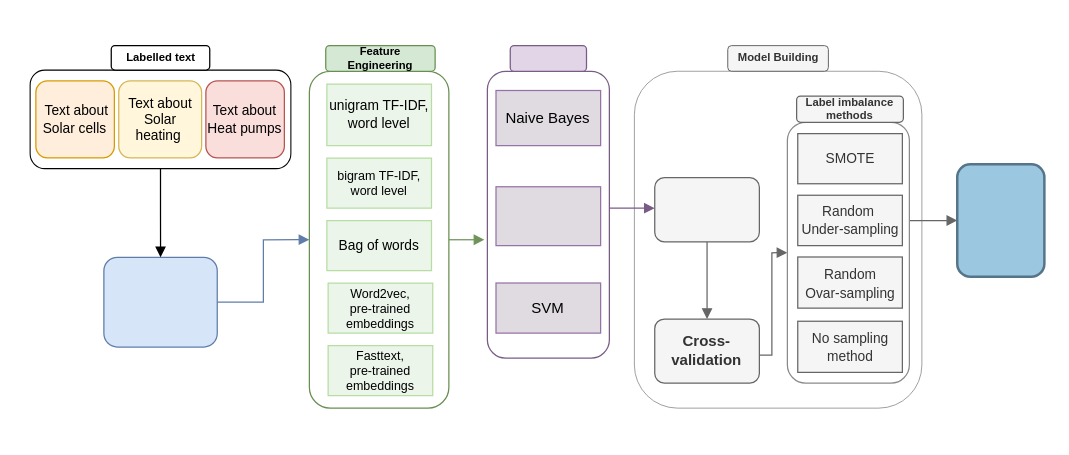
The diagram is 1069 pixels wide and 455 high, and some of its shapes have lost their labels. The shapes that lost their labels are listed below. From the top down, each one's box as (x1, y1, x2, y2) in pixels, then its label:
(509, 44, 586, 71): Classifiers
(495, 186, 601, 246): Logistic Regression
(654, 176, 759, 242): GridSearchCV
(955, 162, 1045, 277): Model Evaluation & selection
(103, 256, 217, 347): Text preprocessing
